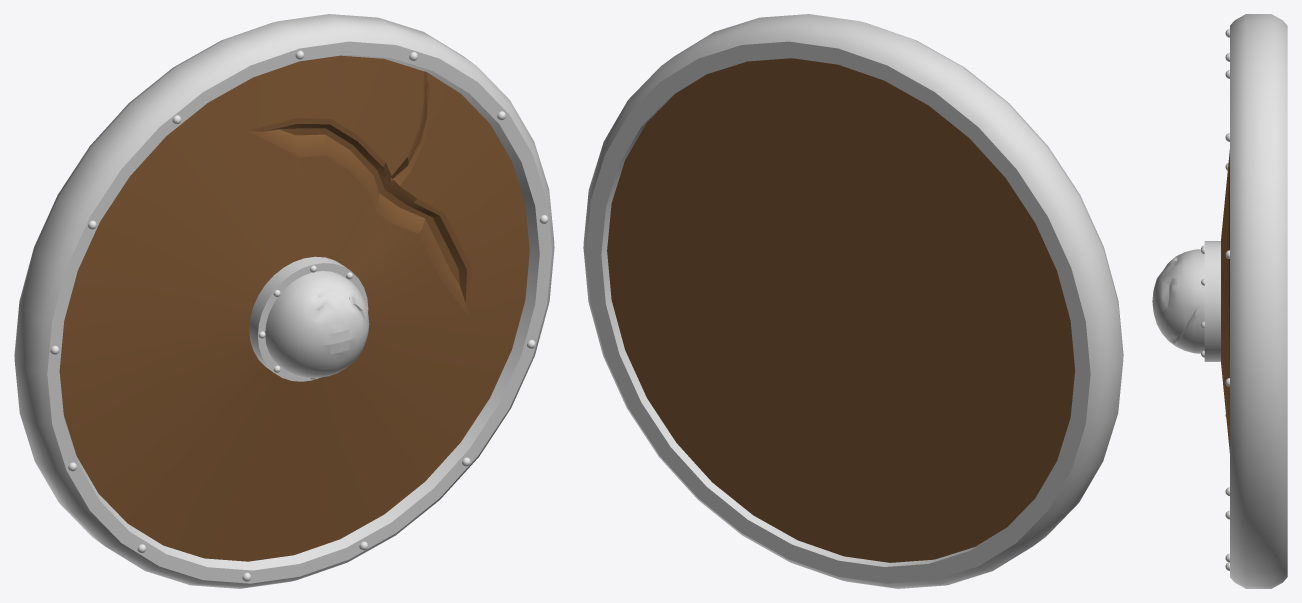
The model's file is Shield_Damaged.glb.
3 views of the same model, side by side, from view 1: azimuth 30°, elevation 25°; view 2: azimuth 150°, elevation 25°; view 3: azimuth 270°, elevation 25° (orthographic). The views are drawn at different scales.
Visible parts, largest first — view 1: Escudo, Embellecedor exterior; view 2: Escudo; view 3: Escudo, Embellecedor exterior.
Boxes of the visible parts, x1,y1,x2,y2 form: Escudo: (14,14,554,588); Embellecedor exterior: (50,50,548,581); Escudo: (583,14,1123,588); Escudo: (1152,14,1287,588); Embellecedor exterior: (1225,29,1229,570).
Bounding box in the file's own units: 1.23 × 1.23 × 0.2883.
